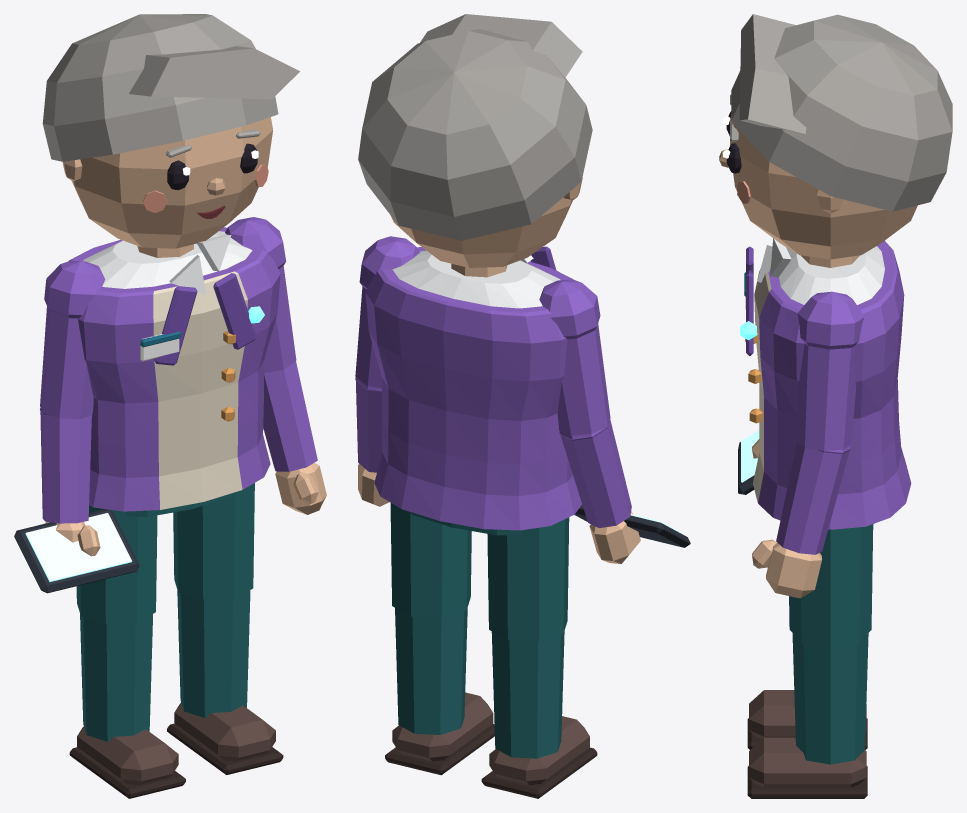
File: man_spo.glb
3 renders of one model, left to right at view 1: azimuth 30°, elevation 25°; view 2: azimuth 150°, elevation 25°; view 3: azimuth 270°, elevation 25°, orthographic.
Parts seen in each view (by area): view 1: jacke, haare, bein_l, kopf, bein_r, arm_r, arm_l, gegenstand_terminal, schuh_l, schuh_r, torso, revers (+6 smaller); view 2: jacke, haare, bein_r, bein_l, arm_r, arm_l, torso, kopf, schuh_r, schuh_l, hand_r, gegenstand_terminal (+1 smaller); view 3: haare, jacke, bein_l, arm_l, kopf, schuh_l, torso, hand_l, schuh_r, gesicht, gegenstand_terminal, kragen (+2 smaller).
Boxes of the visible parts, box(x1,y1,x2,y2) form: jacke: box(68, 227, 280, 511); haare: box(42, 14, 299, 161); bein_l: box(173, 483, 254, 717); kopf: box(62, 117, 272, 248); bein_r: box(76, 505, 157, 741); arm_r: box(40, 261, 105, 523); arm_l: box(225, 217, 317, 471); gegenstand_terminal: box(14, 509, 139, 593); schuh_l: box(167, 702, 283, 774); schuh_r: box(69, 726, 185, 798); torso: box(83, 231, 252, 288); revers: box(154, 273, 256, 365); jacke: box(365, 247, 581, 530); haare: box(358, 14, 592, 240); bein_r: box(487, 517, 569, 758); bein_l: box(390, 503, 471, 734); arm_r: box(539, 279, 631, 527); arm_l: box(355, 236, 420, 472); torso: box(392, 250, 560, 308); kopf: box(390, 177, 582, 267); schuh_r: box(481, 716, 597, 798); schuh_l: box(385, 692, 494, 775); hand_r: box(589, 511, 640, 563); gegenstand_terminal: box(574, 504, 690, 547); haare: box(731, 14, 952, 211); jacke: box(753, 240, 911, 529); bein_l: box(789, 525, 873, 764); arm_l: box(776, 291, 864, 554); kopf: box(730, 114, 917, 259); schuh_l: box(747, 737, 867, 798); torso: box(779, 246, 884, 304); hand_l: box(752, 539, 821, 598); schuh_r: box(747, 690, 867, 749); gesicht: box(719, 94, 750, 203); gegenstand_terminal: box(738, 430, 759, 494); kragen: box(757, 238, 791, 282).
Size of the model in its own units: 0.012 by 0.0276 by 0.00798.
